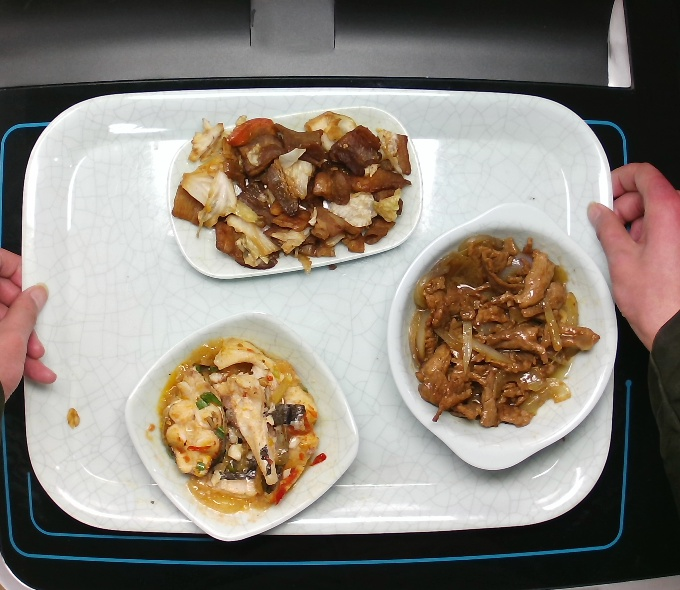wcq-DuoJiaoYuKuai: (156, 344, 325, 511)
wcq-PaoCaiRouPian: (166, 114, 411, 269)
wcq-YangCongRouPian: (398, 240, 599, 429)
